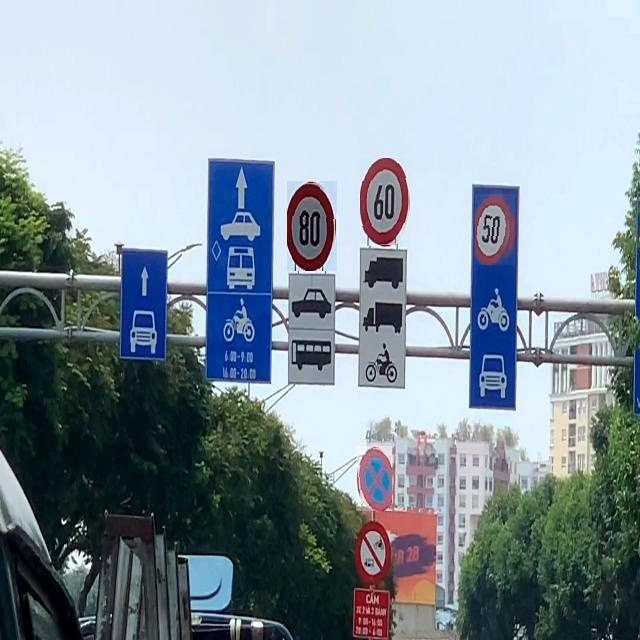bien_cam: (288, 181, 338, 271), (360, 158, 410, 247), (475, 194, 515, 265), (357, 446, 392, 511)
